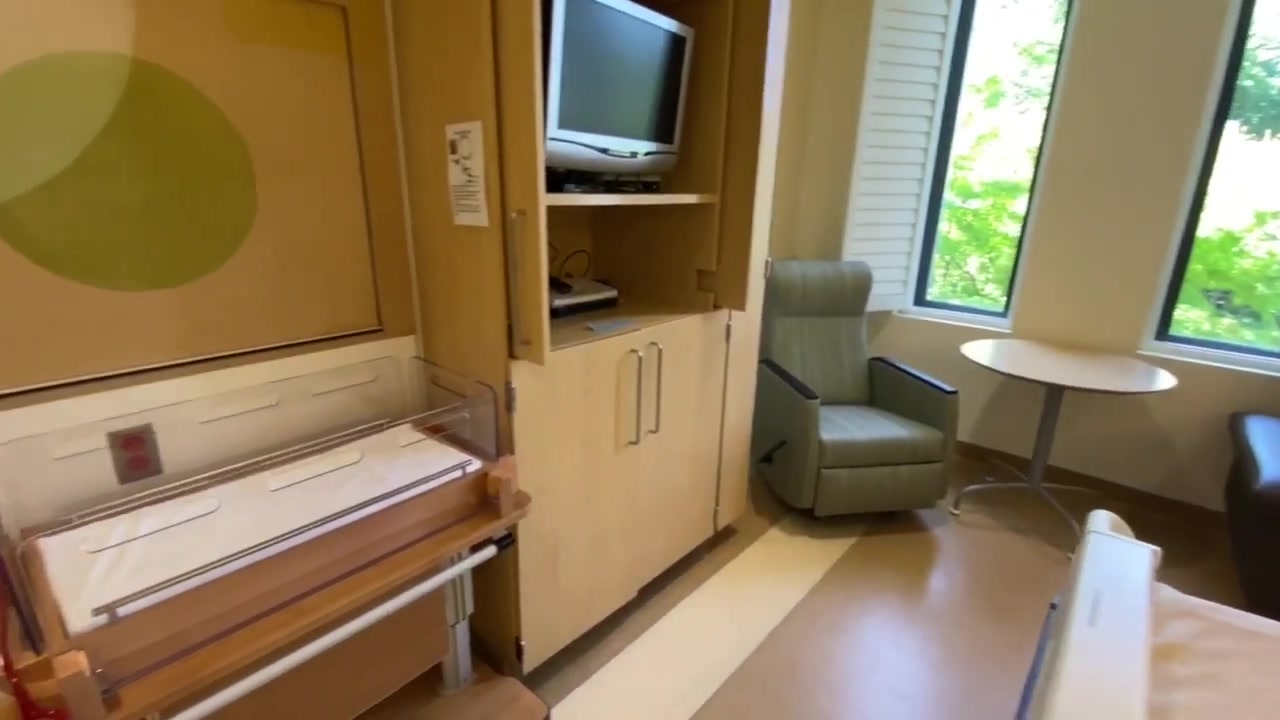TV: (545, 1, 697, 172)
foot_board: (1016, 509, 1166, 720)
handle: (508, 208, 532, 347), (647, 341, 667, 436), (624, 348, 643, 446)
hospital_bed: (1013, 502, 1280, 720)
sofa: (751, 257, 959, 524), (1219, 411, 1280, 621)
table: (949, 338, 1180, 561)
